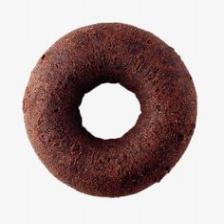brown: (23, 23, 197, 197)
